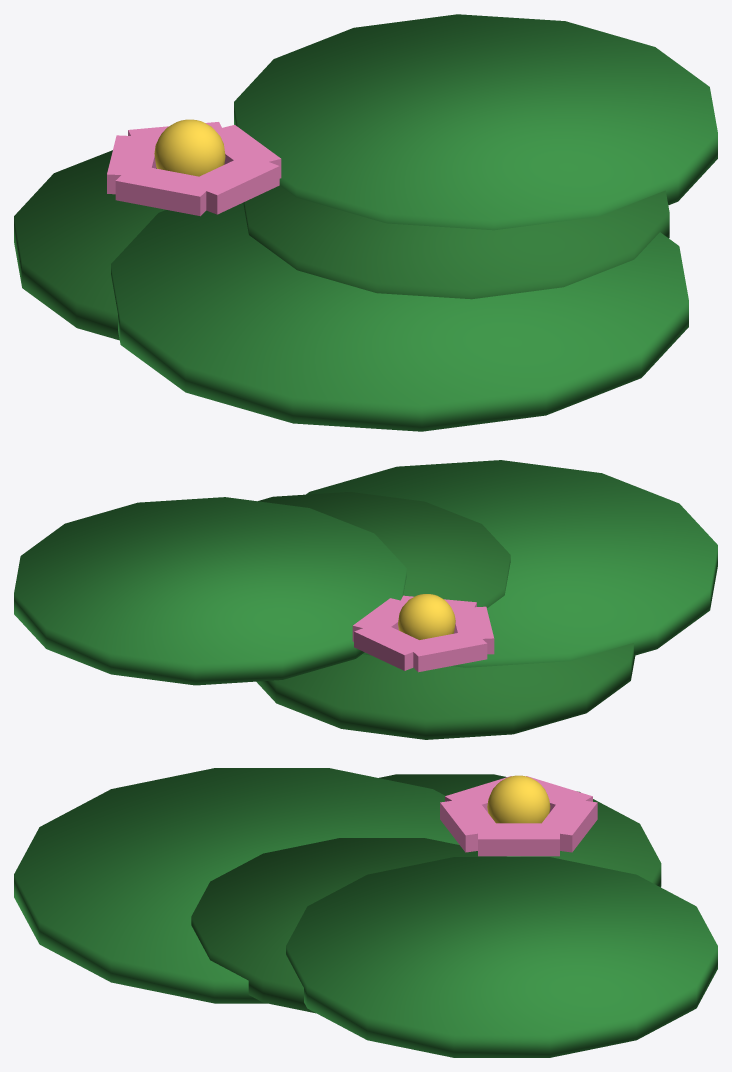
Rendered from lily.glb.
The picture shows the model from 3 angles, top to bottom: view 1: azimuth 30°, elevation 25°; view 2: azimuth 150°, elevation 25°; view 3: azimuth 270°, elevation 25°; orthographic projection. The views are drawn at different scales.
Visible parts, largest first — view 1: pad3, pad1, pad2, pad0, petal3, center, petal4, petal2, petal0, petal1; view 2: pad3, pad1, pad0, pad2, petal2, center, petal1, petal3, petal0; view 3: pad3, pad1, pad2, pad0, petal0, center, petal1, petal4, petal3, petal2.
Part boxes in pixels (box(x1,y1,x2,y2)): pad3: box(234, 14, 717, 230); pad1: box(111, 203, 688, 431); pad2: box(243, 185, 669, 299); pad0: box(14, 150, 165, 340); petal3: box(115, 165, 217, 216); center: box(154, 119, 225, 176); petal4: box(199, 154, 279, 214); petal2: box(107, 135, 158, 194); petal0: box(217, 125, 281, 178); petal1: box(128, 122, 227, 147); pad3: box(14, 497, 406, 685); pad1: box(306, 460, 717, 667); pad0: box(256, 643, 635, 739); pad2: box(258, 492, 510, 607); petal2: box(413, 630, 487, 672); center: box(398, 594, 455, 639); petal1: box(354, 622, 429, 670); petal3: box(452, 606, 494, 654); petal0: box(352, 598, 406, 641); pad3: box(286, 857, 717, 1057); pad1: box(14, 768, 520, 1003); pad2: box(191, 838, 506, 1013); pad0: box(379, 774, 661, 887); petal0: box(478, 823, 559, 856); center: box(487, 775, 550, 823); petal1: box(537, 797, 597, 852); petal4: box(440, 798, 495, 852); petal3: box(445, 776, 511, 812); petal2: box(526, 776, 592, 812).
Size of the model in its own units: 1.07 by 0.17 by 1.12.
